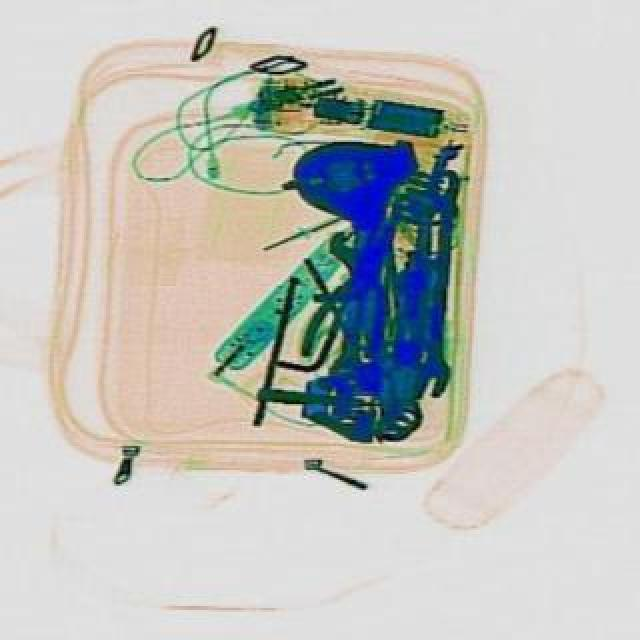scissors: (406, 166, 458, 398), (322, 232, 370, 384)
